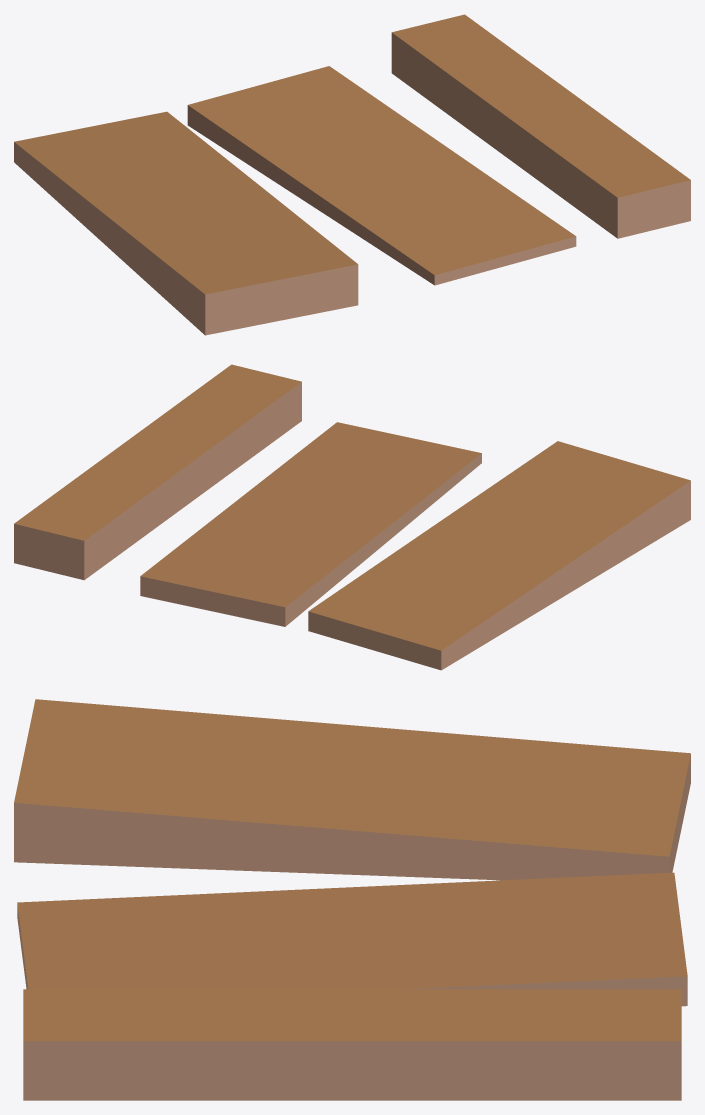
Rendered from path_woodEnd.glb.
3 renders of one model, top to bottom at view 1: azimuth 30°, elevation 25°; view 2: azimuth 150°, elevation 25°; view 3: azimuth 270°, elevation 25°, orthographic. The views are drawn at different scales.
Visible parts, largest first — view 1: path_woodEnd; view 2: path_woodEnd; view 3: path_woodEnd.
Part boxes in pixels (bbox=[...]): path_woodEnd: bbox=[14, 14, 690, 335]; path_woodEnd: bbox=[14, 364, 690, 670]; path_woodEnd: bbox=[14, 699, 690, 1100].
Bounding box in the file's own units: 0.6148 × 0.05 × 0.5144.
